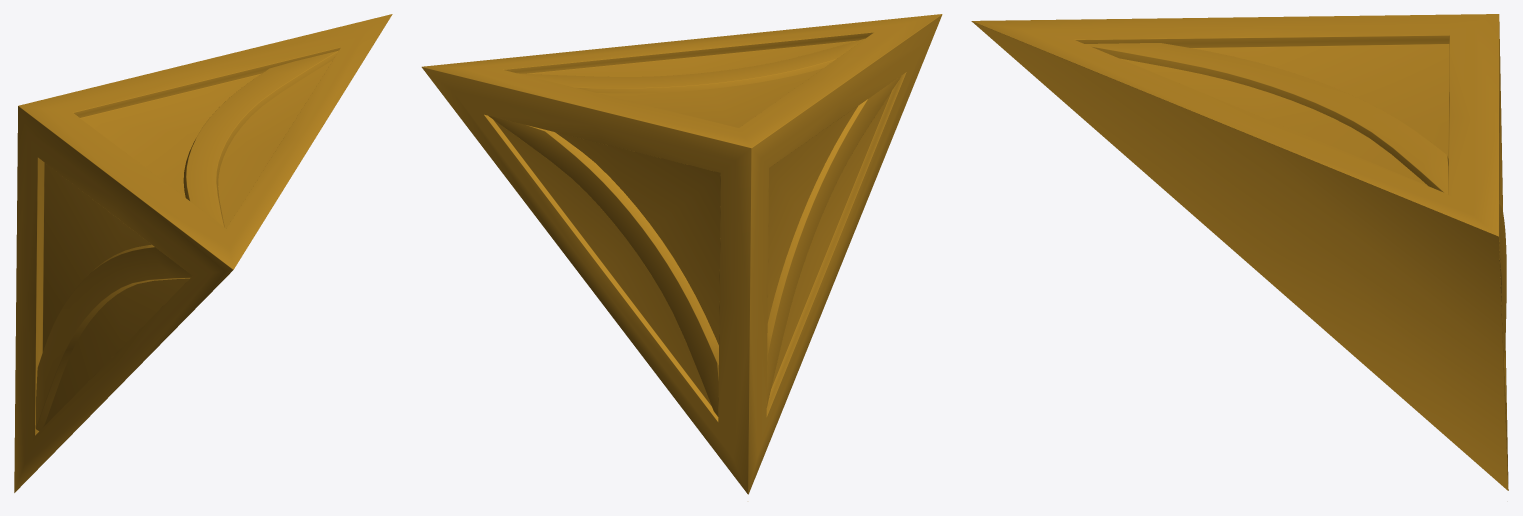
The model's file is Holocron_Esquina_03.obj.
3 views of the same model, side by side, from view 1: azimuth 30°, elevation 25°; view 2: azimuth 150°, elevation 25°; view 3: azimuth 270°, elevation 25° (orthographic). The views are drawn at different scales.
Parts seen in each view (by area): view 1: Holocron_Esquina_03; view 2: Holocron_Esquina_03; view 3: Holocron_Esquina_03.
Part boxes in pixels (x1,y1,x2,y2): Holocron_Esquina_03: (14, 14, 392, 492); Holocron_Esquina_03: (421, 14, 942, 494); Holocron_Esquina_03: (971, 14, 1508, 490).
Bounding box in the file's own units: 5.14 × 5.24 × 5.22.
